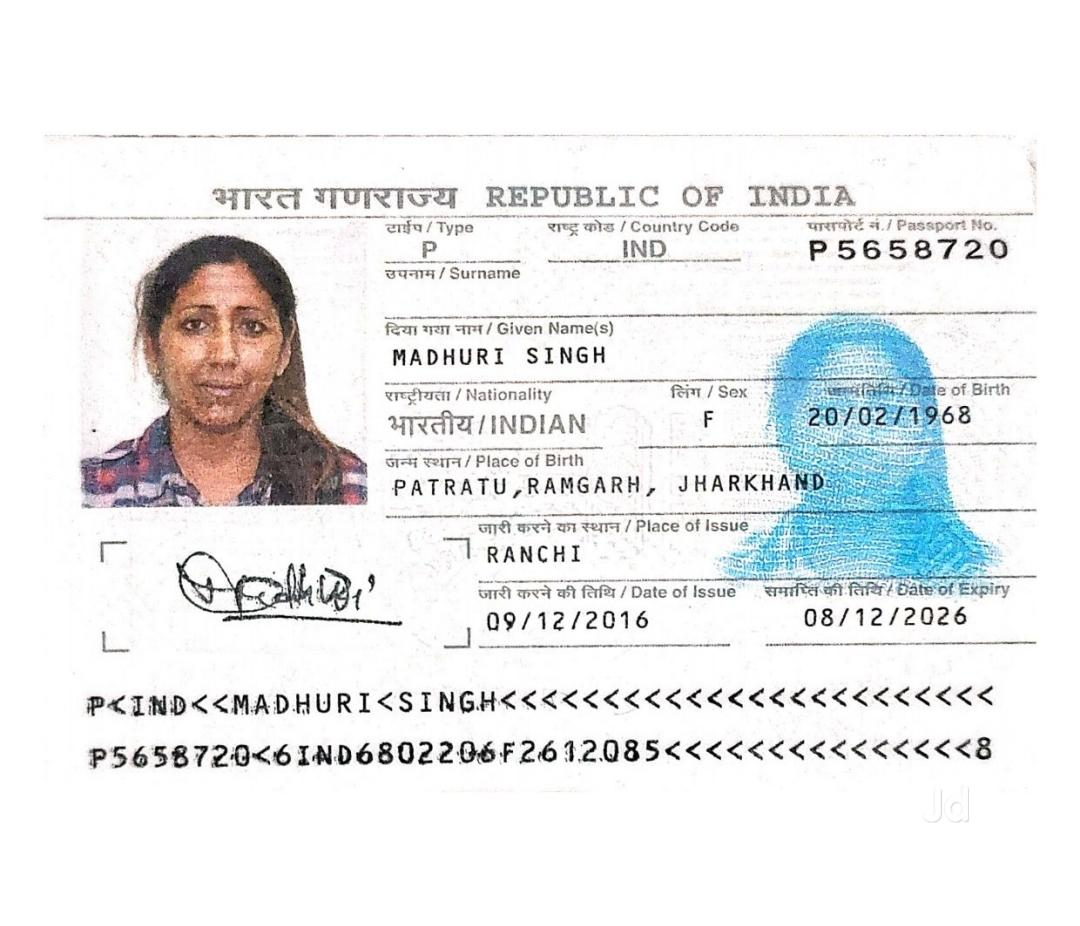DOB: (800, 398, 992, 440)
country_code: (610, 232, 690, 272)
date_of_expiry: (787, 597, 990, 641)
date_of_issue: (468, 598, 674, 645)
details: (63, 678, 1013, 780)
name: (389, 341, 624, 376)
nationality: (380, 408, 603, 448)
passport_no: (796, 232, 1034, 275)
photo: (85, 220, 364, 501)
place_of_birth: (388, 471, 856, 498)
place_of_issue: (477, 535, 590, 575)
sex: (688, 398, 726, 436)
sign: (157, 537, 424, 651)
type: (407, 233, 458, 264)
